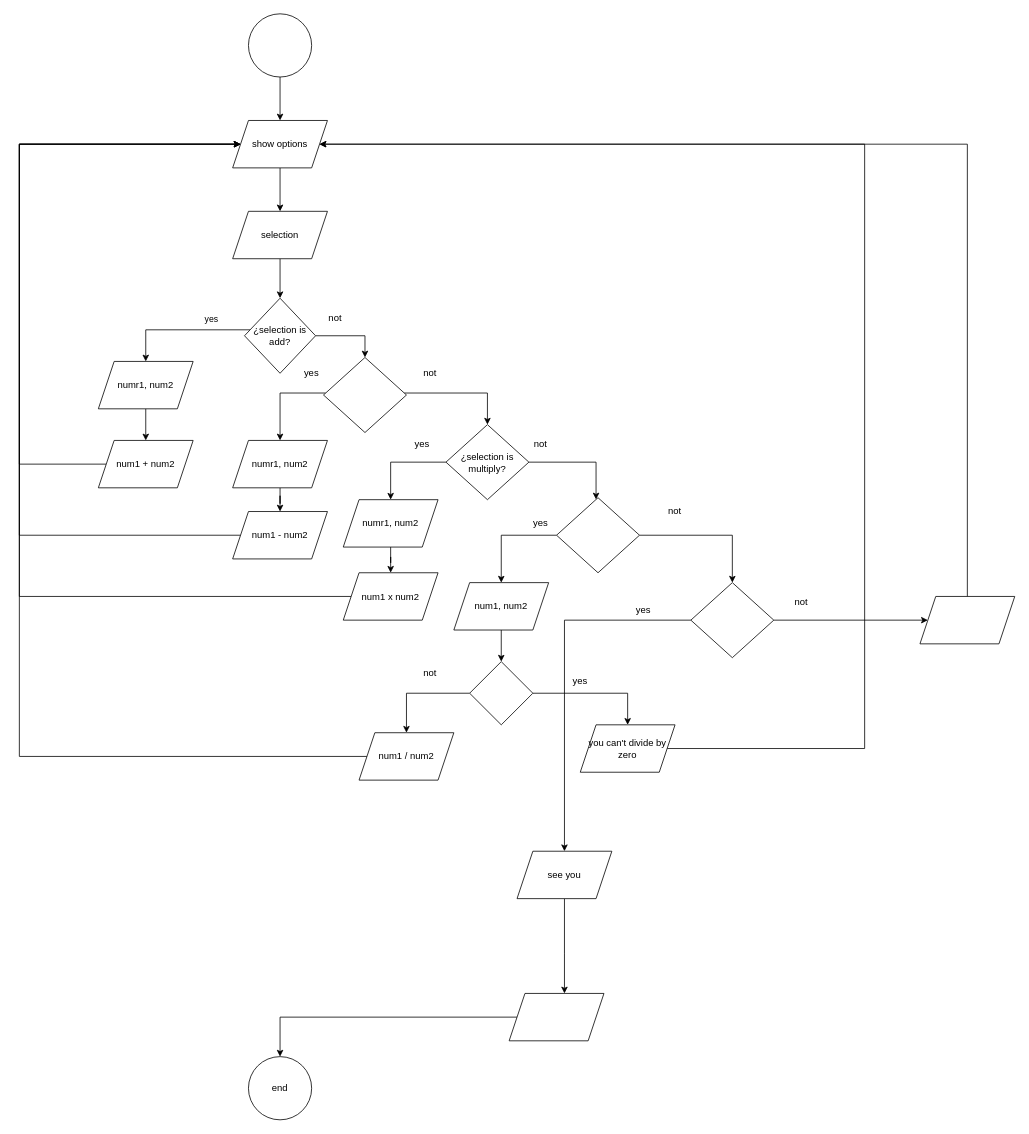
This 1029x1134 diagram has some shape labels left out. The shapes that lost their labels are listed below. From the top down, each one's box as (x1, y1, x2, y2) in pixels, then its label:
(248, 13, 312, 77): start
(323, 357, 406, 433): ¿selection is substract?
(556, 497, 640, 573): ¿Selection is divide?
(690, 582, 774, 658): ¿selection is exit?
(919, 596, 1015, 644): incorrect selection
(469, 661, 533, 725): ¿num2 ==0?
(508, 993, 604, 1041): you are out
